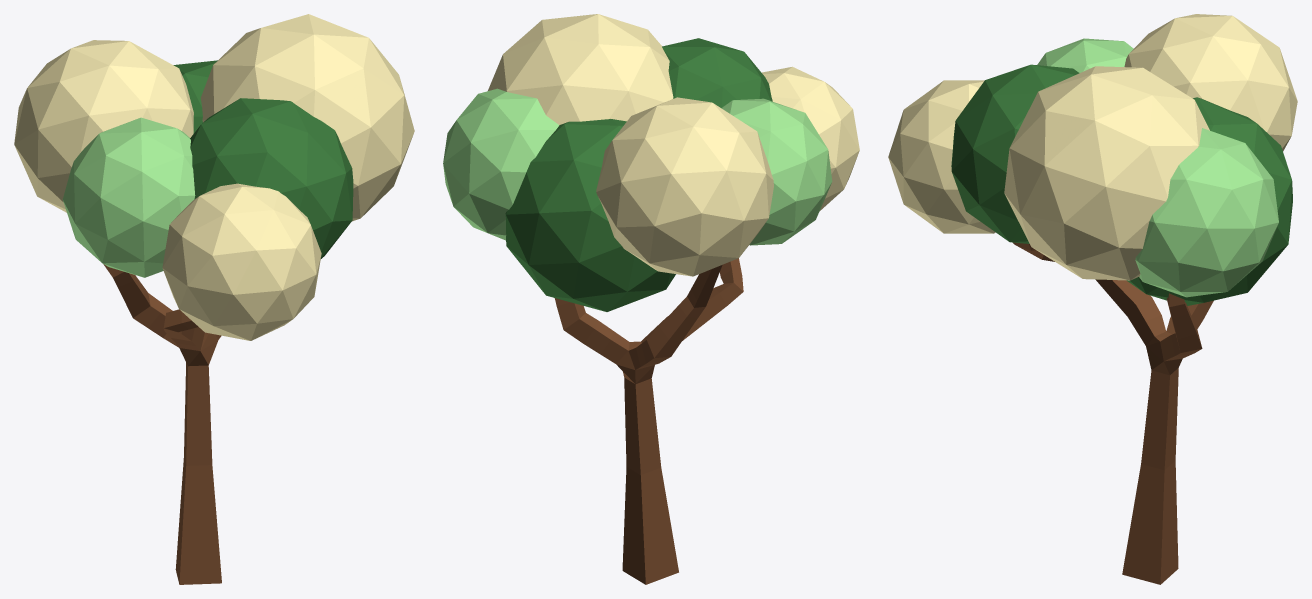
File: Tree.fbx
3 views of the same model, side by side, from view 1: azimuth 30°, elevation 25°; view 2: azimuth 150°, elevation 25°; view 3: azimuth 270°, elevation 25° (orthographic). The views are drawn at different scales.
Parts seen in each view (by area): view 1: Cube; view 2: Cube; view 3: Cube.
Boxes of the visible parts, x1,y1,x2,y2 form: Cube: [14, 14, 414, 584]; Cube: [443, 14, 859, 584]; Cube: [888, 14, 1297, 584].
Size of the model in its own units: 317 by 487 by 335.
